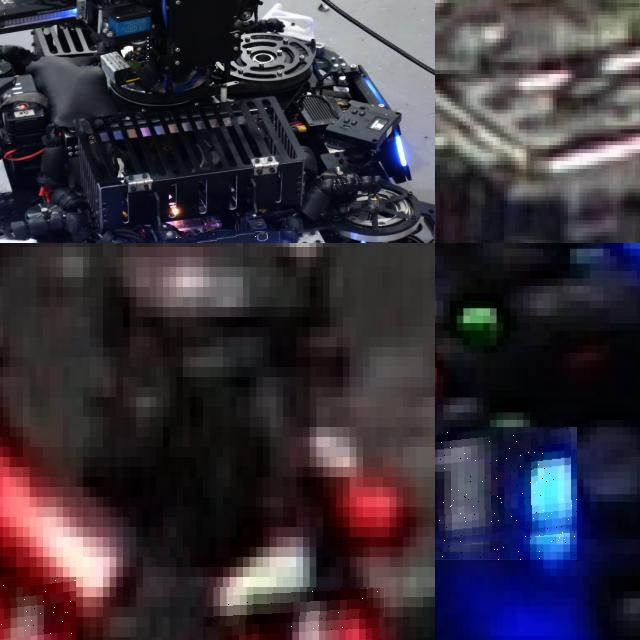B1: (435, 427, 576, 561)
R4: (206, 587, 386, 640), (0, 577, 76, 640)
